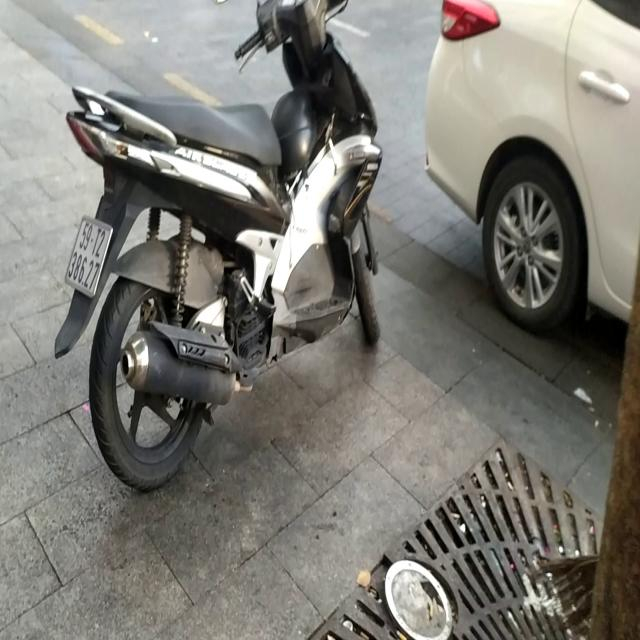bien_trang: (61, 211, 113, 296)
